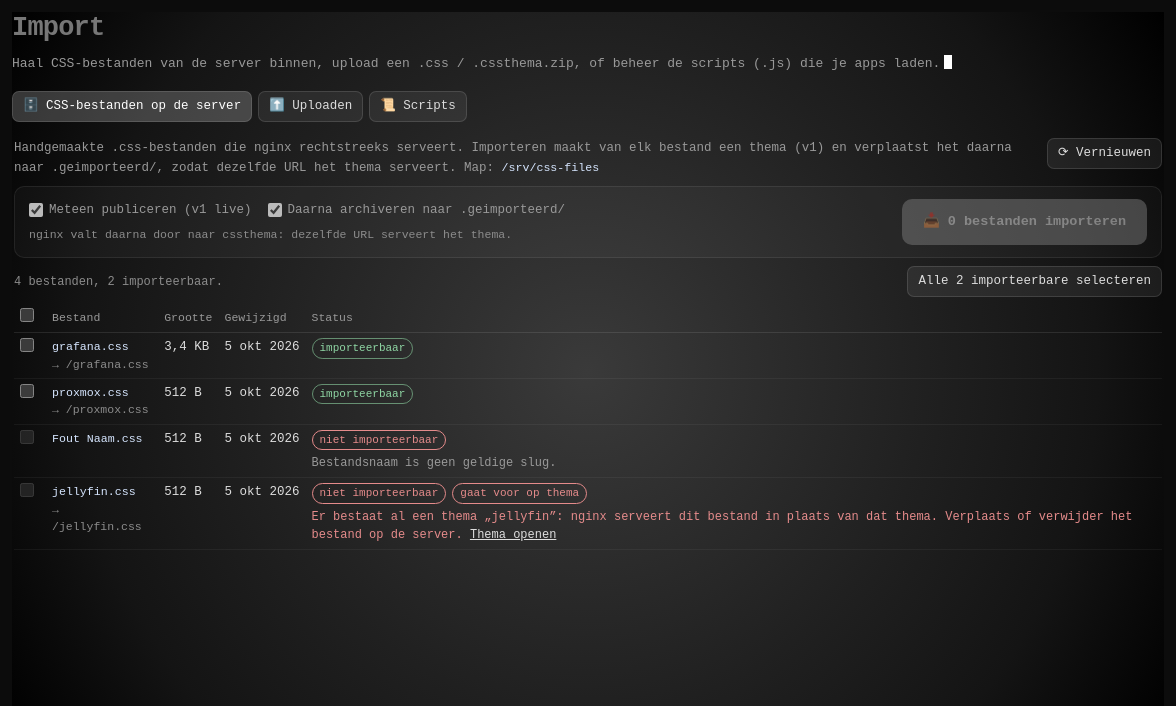
Test case: Import: CSS-bestanden op de server › importeert, toont het resultaat en vuurt het publiceer-effect
The width and height of the screenshot is (1176, 706).
Expected: the table is shown, [14,303,1162,550]
Step 1. Click the checkbox in the row of "3,4 KB" → (27,345), box [20,338,34,352]
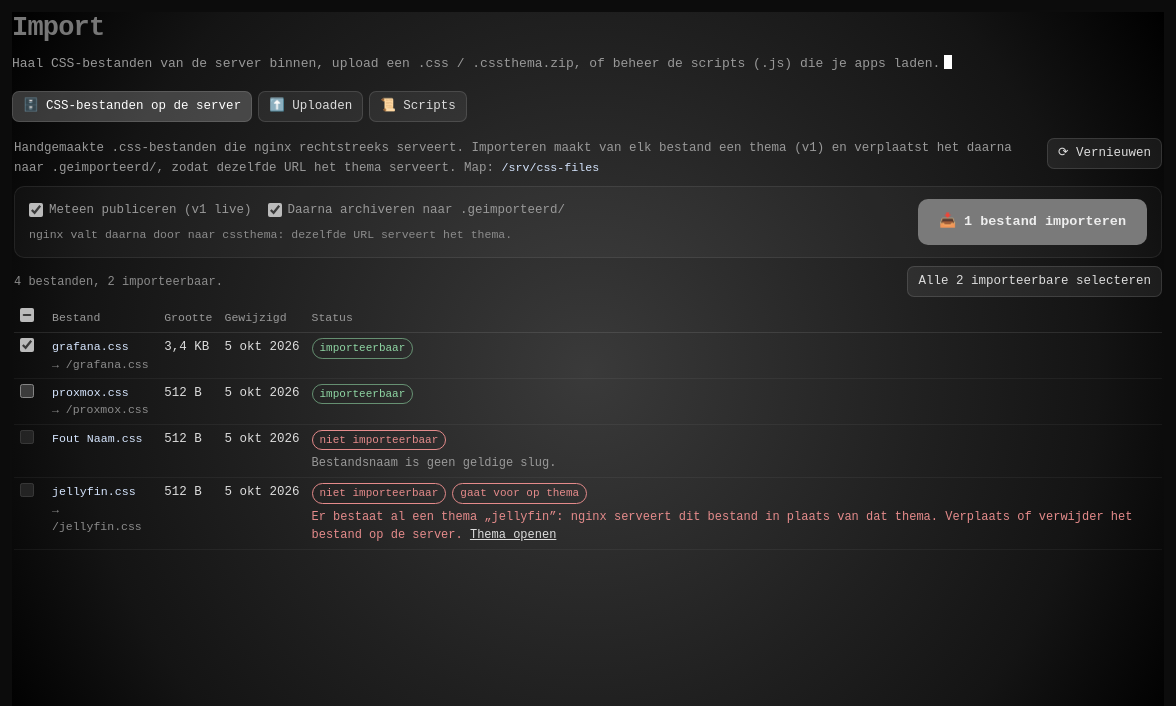
Step 2. Click the button "📥 1 bestand importeren" → (1033,222), box [918,199,1147,245]
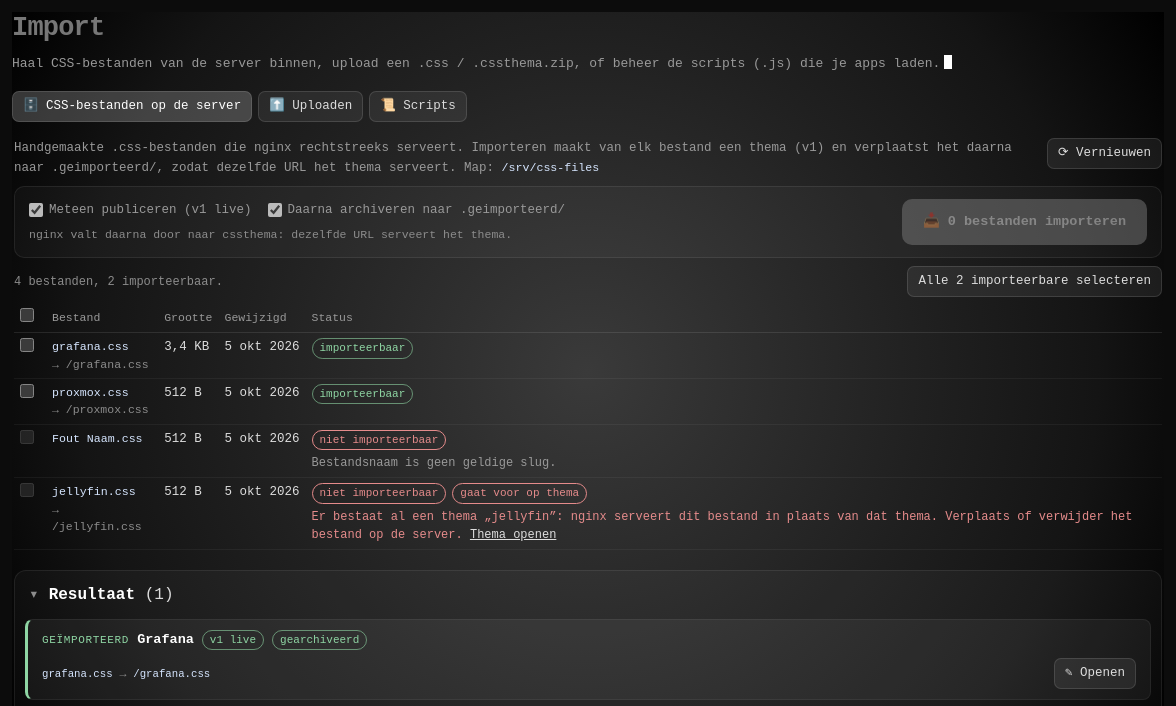
Now the text "v1 live" is shown, box [202,630,264,650]
Now the text "gearchiveerd" is shown, box [272,630,367,650]
Now the link with aria-label "Grafana openen in de editor" is shown, box [1054,658,1136,689]
